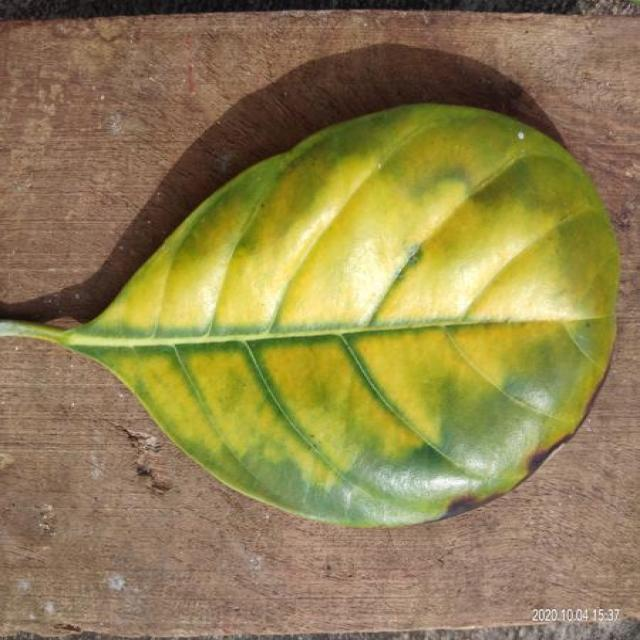Jackfruit: (3, 104, 618, 526)
dieback: (63, 105, 618, 526)
